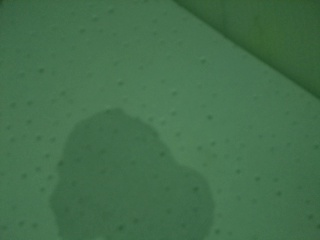Water_detected: (75, 121, 185, 230)
